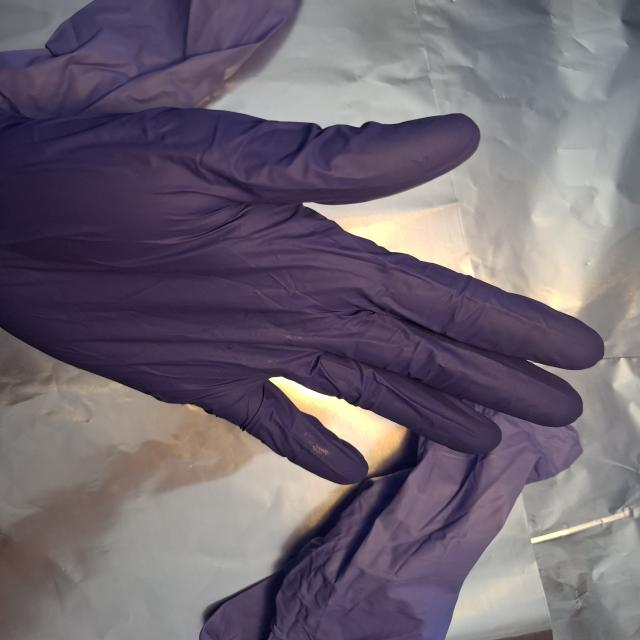glove_on: (1, 108, 609, 486)
